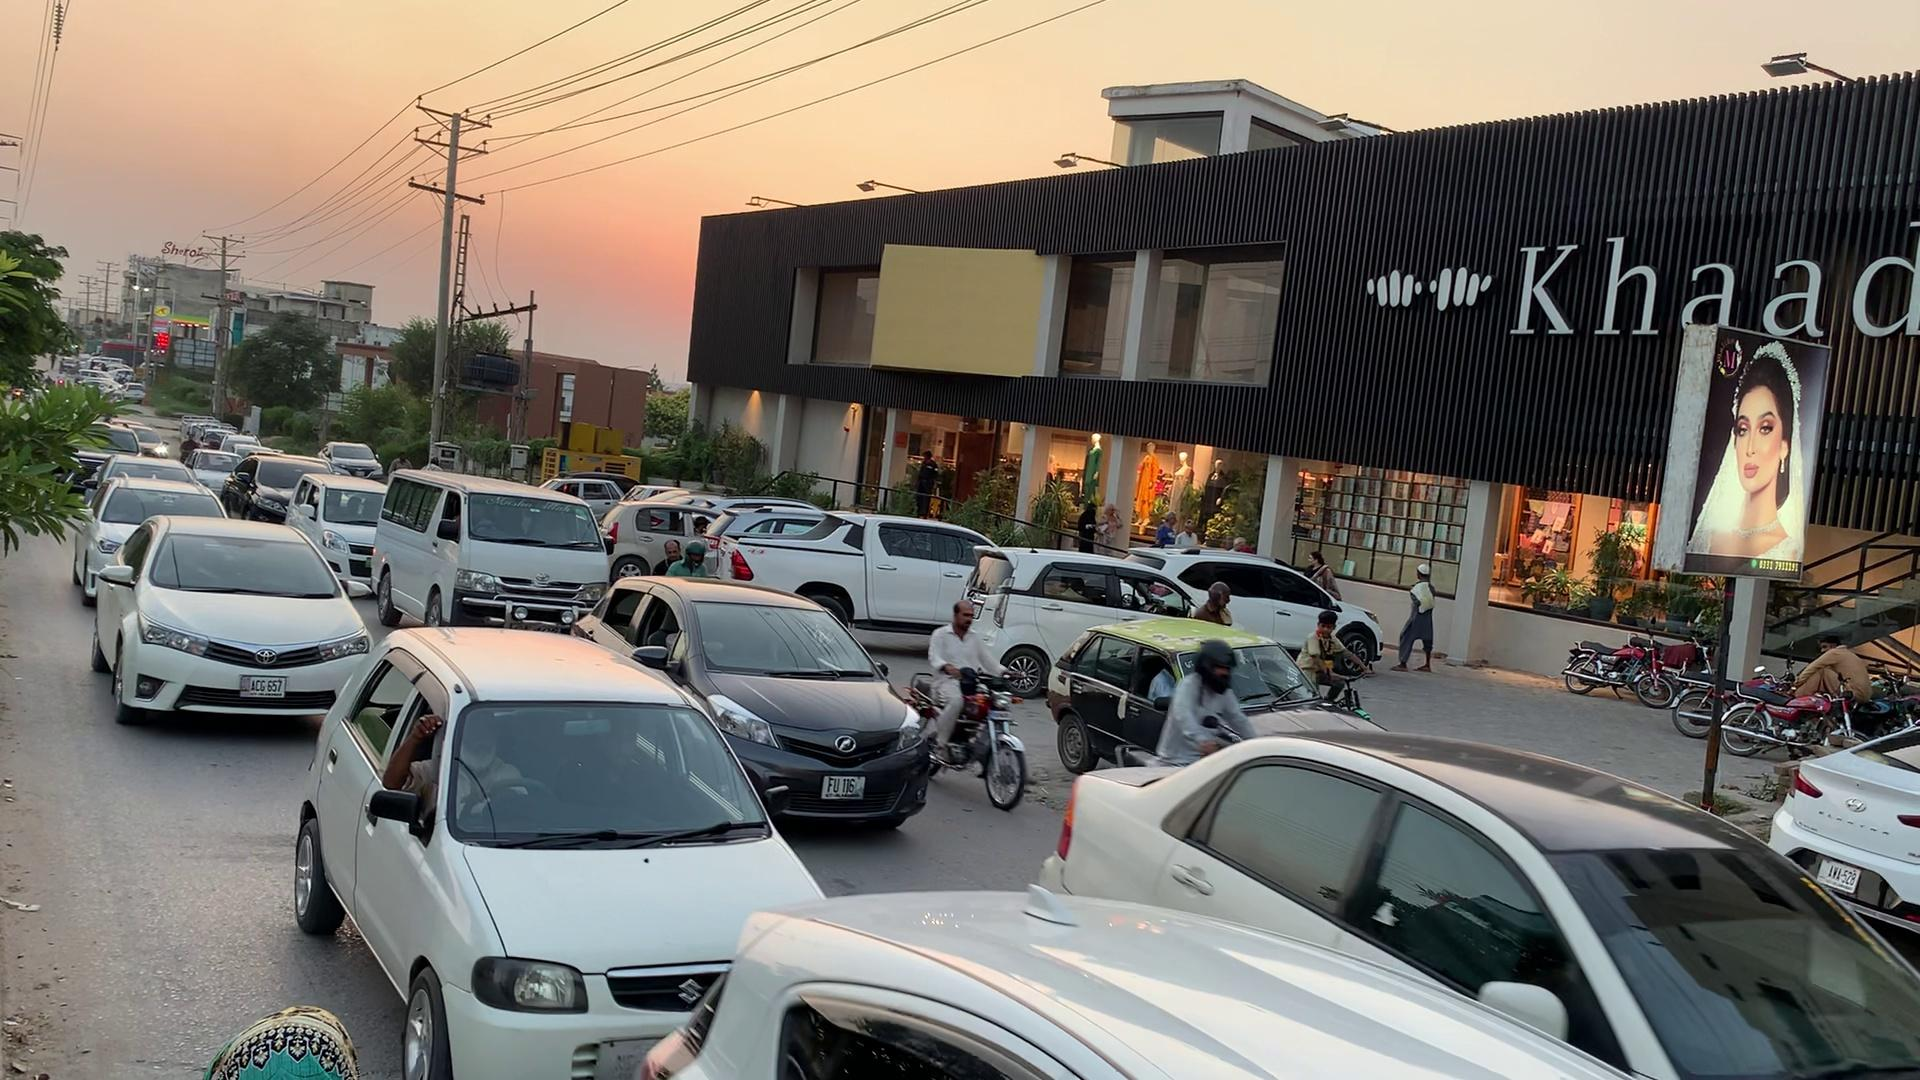windshield: (434, 687, 770, 860), (137, 510, 357, 604), (688, 587, 890, 676)
